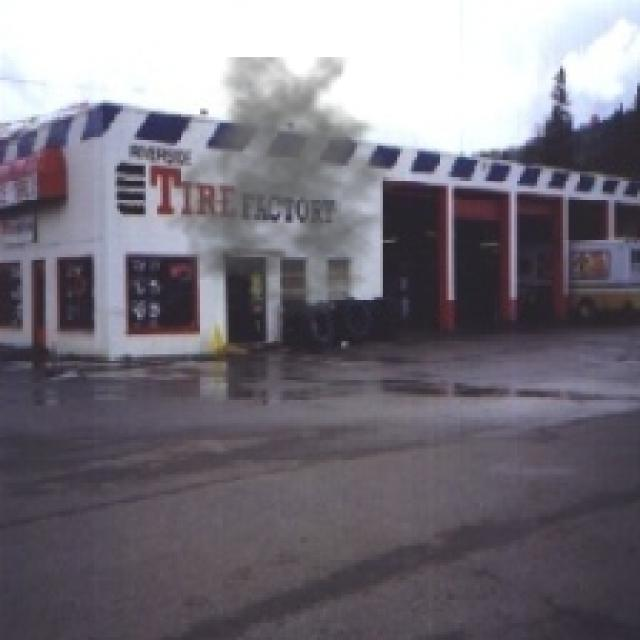Smoke: (163, 57, 414, 320)
